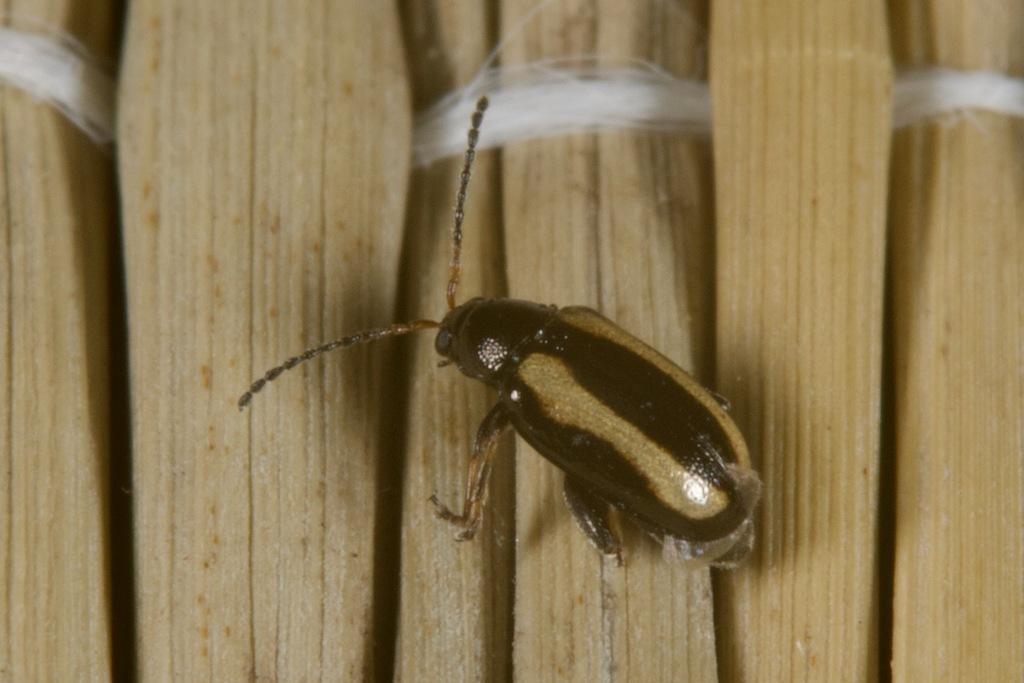flea_beetle: (149, 48, 825, 642)
